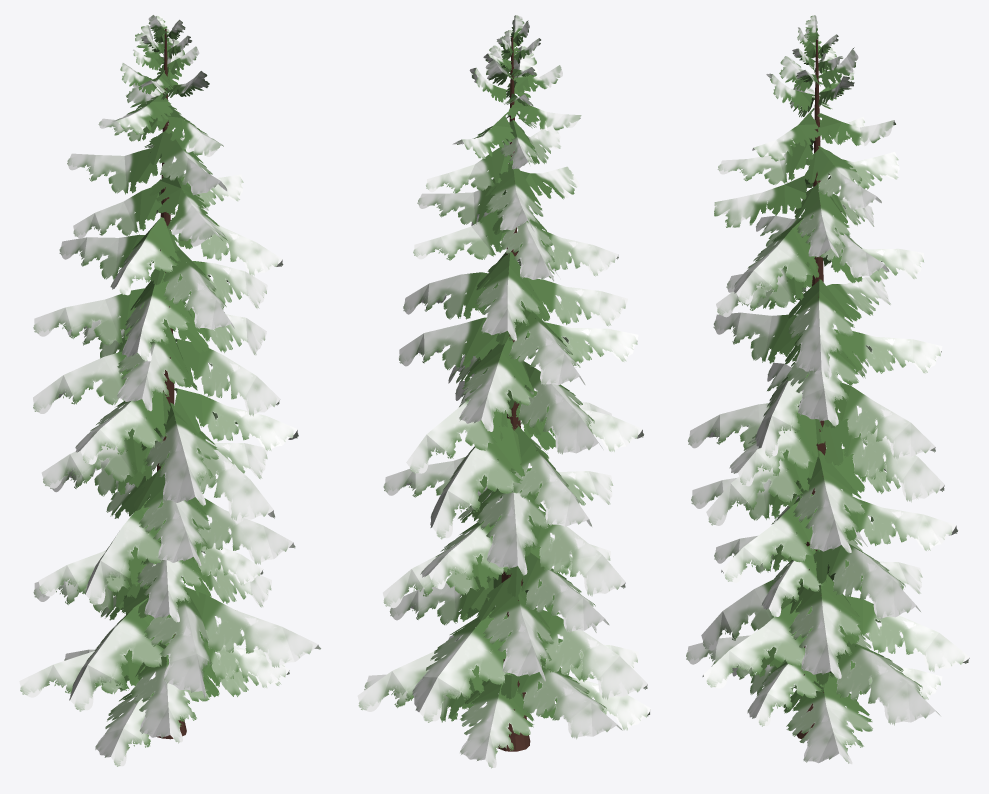
File: Snow_Tree_Pine_01.fbx
The picture shows the model from 3 angles, left to right: view 1: azimuth 30°, elevation 25°; view 2: azimuth 150°, elevation 25°; view 3: azimuth 270°, elevation 25°; orthographic projection.
Parts seen in each view (by area): view 1: SM_Tree_Pine_01b.mo; view 2: SM_Tree_Pine_01b.mo; view 3: SM_Tree_Pine_01b.mo.
Boxes of the visible parts, x1=… form: SM_Tree_Pine_01b.mo: x1=19, y1=15, x2=320, y2=766; SM_Tree_Pine_01b.mo: x1=357, y1=15, x2=651, y2=768; SM_Tree_Pine_01b.mo: x1=686, y1=15, x2=969, y2=764.
Size of the model in its own units: 481 by 1246 by 461.
